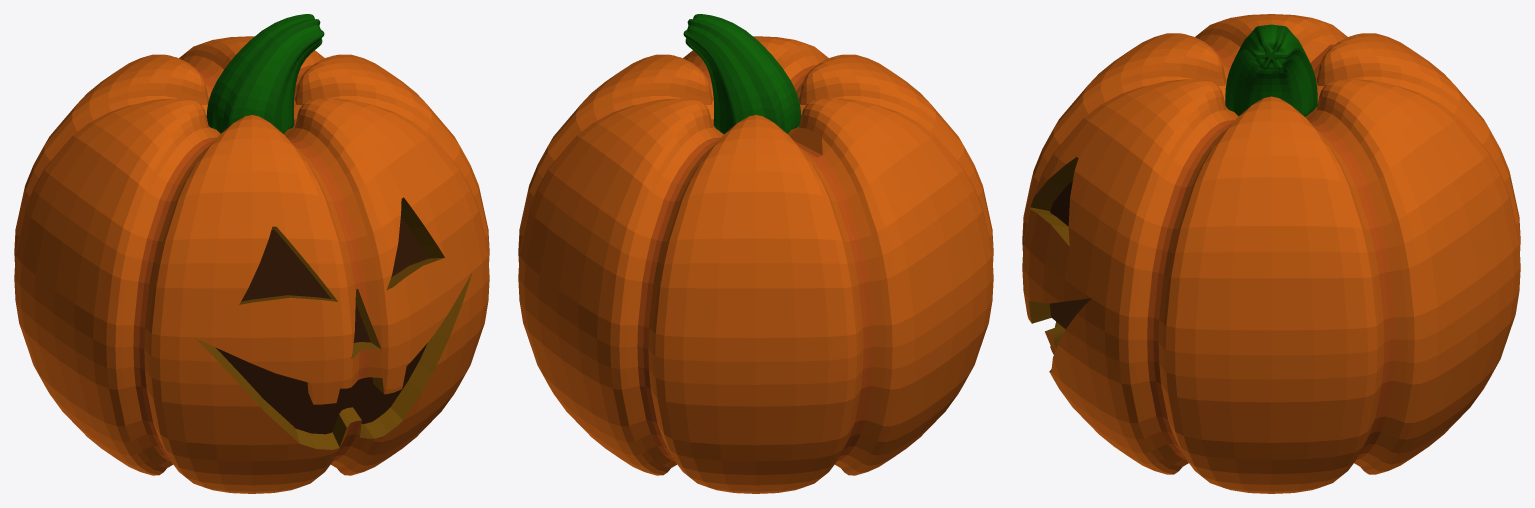
File: jackOlantern.glb
3 renders of one model, left to right at view 1: azimuth 30°, elevation 25°; view 2: azimuth 150°, elevation 25°; view 3: azimuth 270°, elevation 25°, orthographic. The views are drawn at different scales.
Parts seen in each view (by area): view 1: Sphere.001, Sphere.006; view 2: Sphere.001, Sphere.006; view 3: Sphere.001, Sphere.006.
Part boxes in pixels (box(x1,y1,x2,y2)): Sphere.001: box(14, 36, 489, 493); Sphere.006: box(206, 14, 324, 133); Sphere.001: box(518, 36, 993, 493); Sphere.006: box(683, 14, 801, 133); Sphere.001: box(1022, 14, 1520, 493); Sphere.006: box(1225, 24, 1317, 116).
Bounding box in the file's own units: 0.9263 × 0.9036 × 0.9614.
